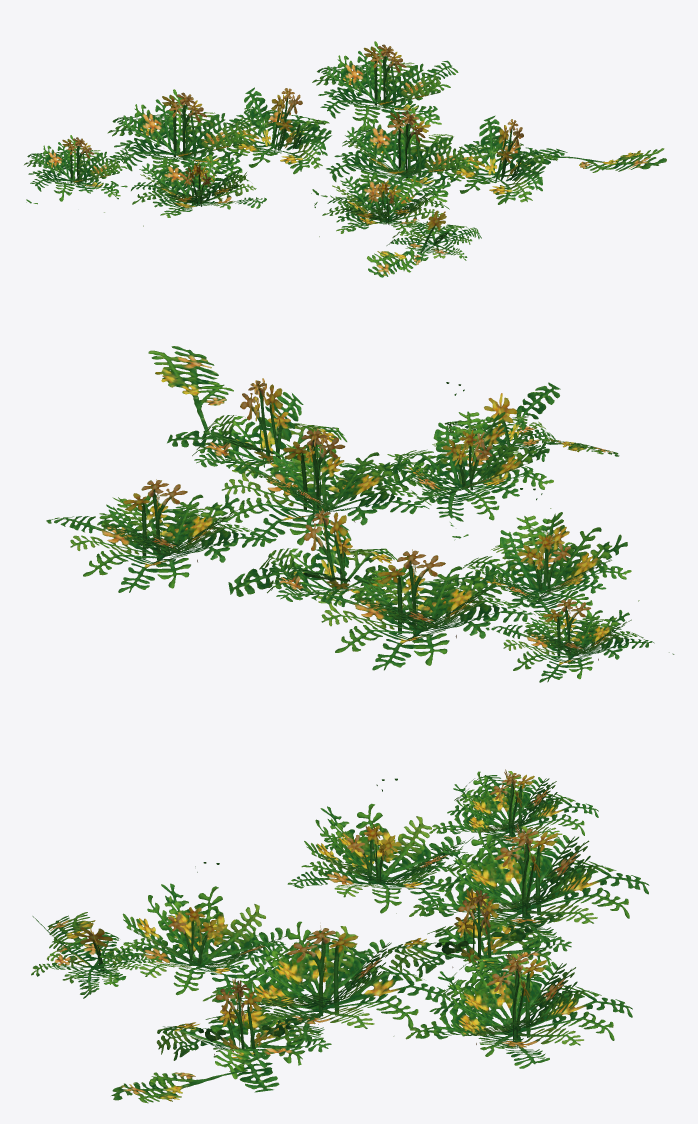
The model's file is Plant_zhiwu_tongyong_24.FBX.
3 views of the same model, one above another, from view 1: azimuth 30°, elevation 25°; view 2: azimuth 150°, elevation 25°; view 3: azimuth 270°, elevation 25° (orthographic). The views are drawn at different scales.
Visible parts, largest first — view 1: Plant_zhiwu_tongyong_24; view 2: Plant_zhiwu_tongyong_24; view 3: Plant_zhiwu_tongyong_24.
Part boxes in pixels (left/top/right/bottom): Plant_zhiwu_tongyong_24: left=24, top=41, right=666, bottom=277; Plant_zhiwu_tongyong_24: left=46, top=346, right=674, bottom=682; Plant_zhiwu_tongyong_24: left=31, top=769, right=649, bottom=1103.
Size of the model in its own units: 637 by 117 by 498.
